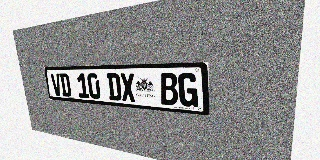0: (87, 73, 101, 99)
1: (76, 73, 89, 98)
B: (159, 73, 178, 106)
D: (106, 73, 122, 101), (59, 73, 72, 97)
G: (178, 73, 198, 107)
V: (50, 73, 62, 96)
X: (120, 73, 136, 102)
